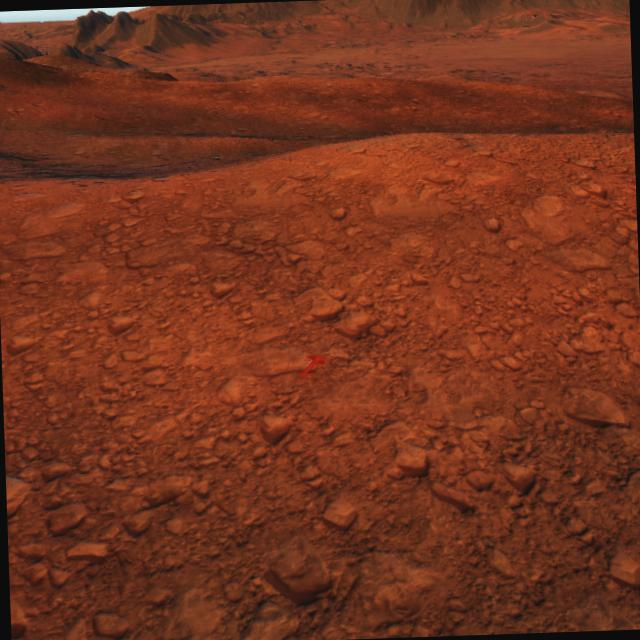newhammer: (298, 354, 325, 378)
